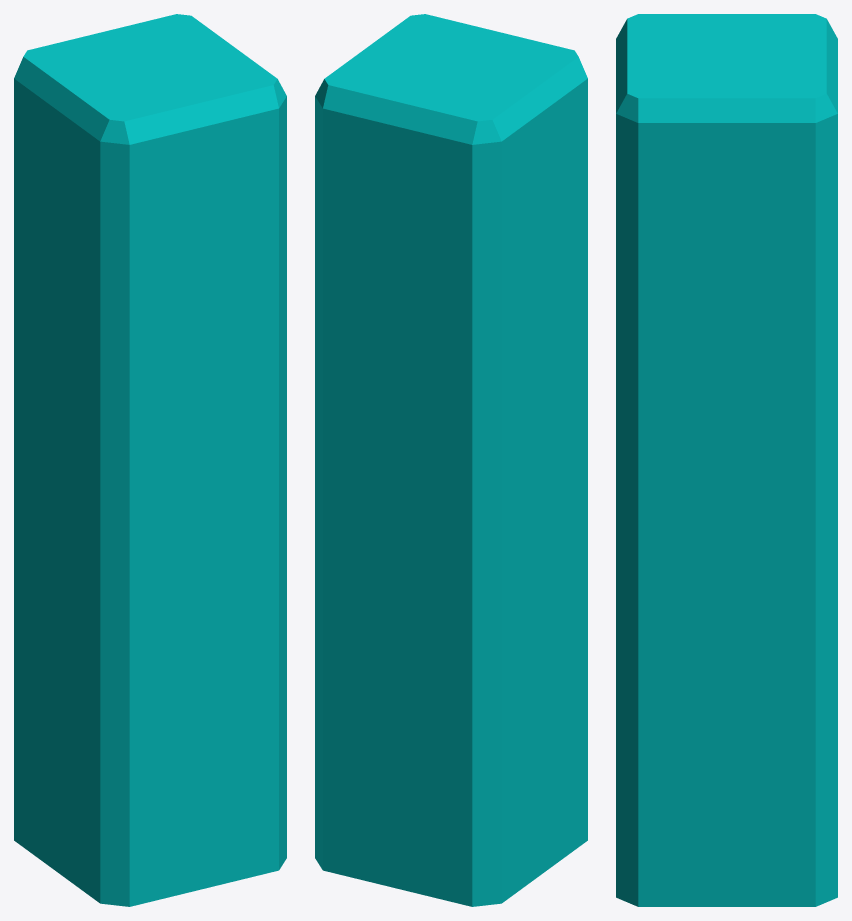
The model's file is block-blue.dae.
The picture shows the model from 3 angles, left to right: view 1: azimuth 30°, elevation 25°; view 2: azimuth 150°, elevation 25°; view 3: azimuth 270°, elevation 25°; orthographic projection. The views are drawn at different scales.
Visible parts, largest first — view 1: SketchUp; view 2: SketchUp; view 3: SketchUp.
Part boxes in pixels (x1,y1,x2,y2): SketchUp: [14, 14, 286, 906]; SketchUp: [315, 14, 587, 906]; SketchUp: [616, 14, 837, 906].
Size of the model in its own units: 39.37 by 39.37 by 157.
